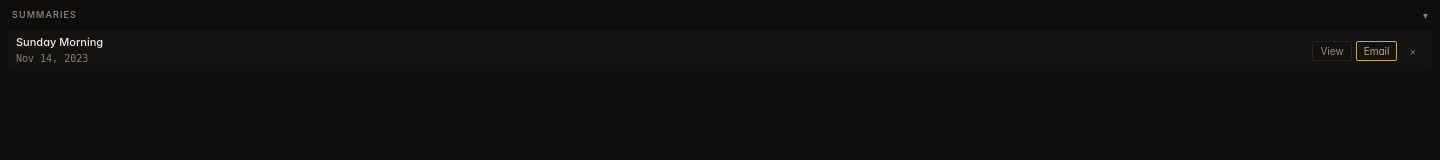
Test: SummaryPanel › shows error when delete fails
The image size is (1440, 160).
Step 1. Click the button titled "Delete summary" → (1413, 51), box [1401,41,1424,61]
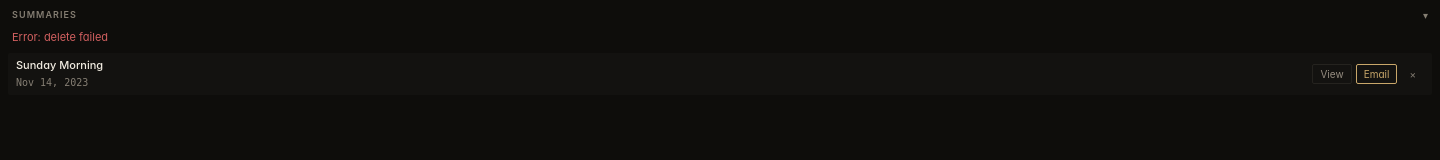
Now the text "Error: delete failed" is shown, box [12,30,108,44]
